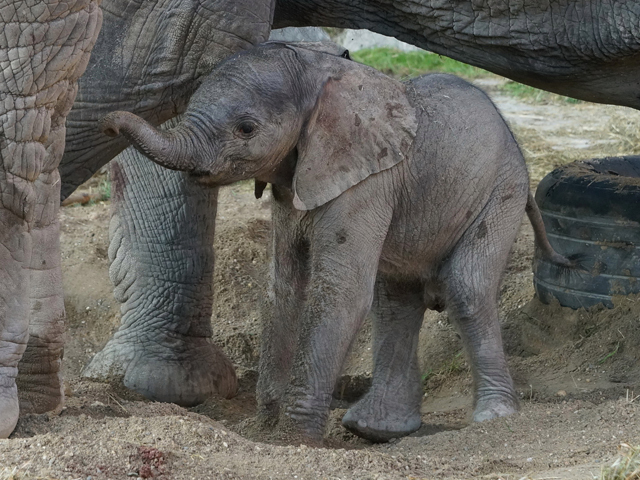elephant: (104, 38, 570, 446)
